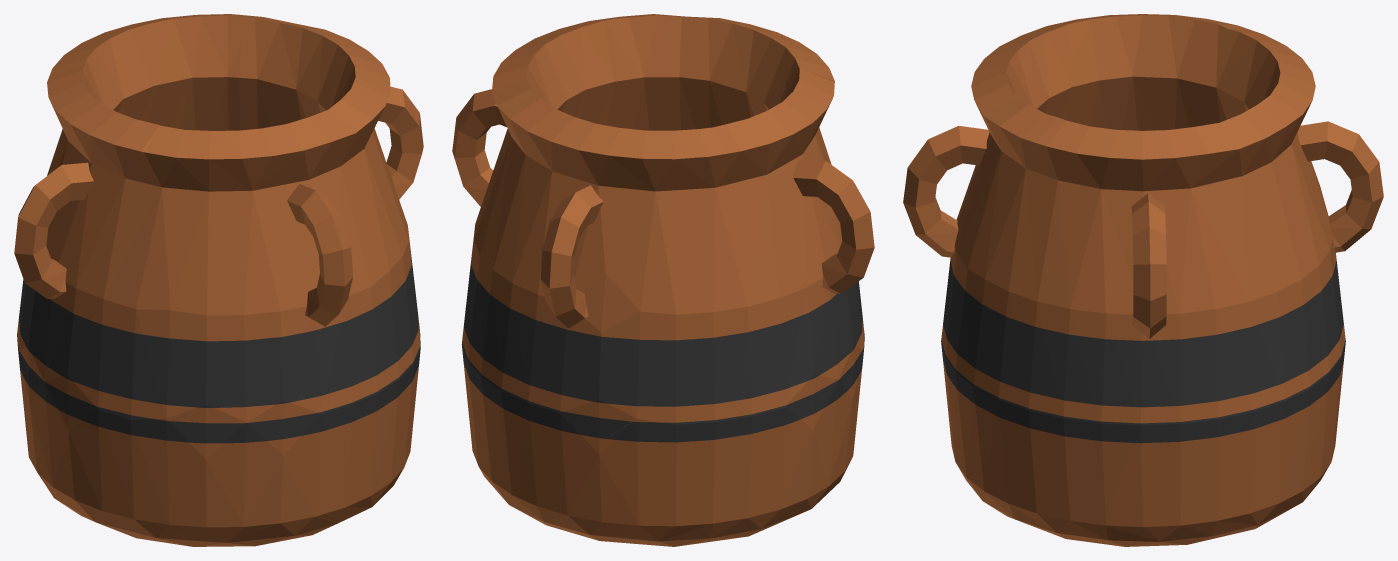
The model's file is Pottery 12_2b.fbx.
3 renders of one model, left to right at view 1: azimuth 30°, elevation 25°; view 2: azimuth 150°, elevation 25°; view 3: azimuth 270°, elevation 25°, orthographic.
Visible parts, largest first — view 1: Pottery 12_2b.001, Pottery 12_2b.005, Pottery 12_2b, Pottery 12_2b.006, Pottery 12_2b.004; view 2: Pottery 12_2b.006, Pottery 12_2b, Pottery 12_2b.005, Pottery 12_2b.001, Pottery 12_2b.002, Pottery 12_2b.004, Pottery 12_2b.003; view 3: Pottery 12_2b.004, Pottery 12_2b, Pottery 12_2b.001, Pottery 12_2b.006, Pottery 12_2b.003, Pottery 12_2b.005, Pottery 12_2b.002.
Part boxes in pixels (left/top/right/bottom): Pottery 12_2b.001: left=142, top=81, right=415, bottom=463; Pottery 12_2b.005: left=14, top=65, right=191, bottom=430; Pottery 12_2b: left=17, top=296, right=420, bottom=546; Pottery 12_2b.006: left=49, top=14, right=248, bottom=130; Pottery 12_2b.004: left=239, top=15, right=423, bottom=330; Pottery 12_2b.006: left=481, top=92, right=736, bottom=464; Pottery 12_2b: left=464, top=325, right=861, bottom=546; Pottery 12_2b.005: left=712, top=68, right=874, bottom=418; Pottery 12_2b.001: left=603, top=14, right=834, bottom=144; Pottery 12_2b.002: left=473, top=290, right=738, bottom=438; Pottery 12_2b.004: left=452, top=19, right=616, bottom=369; Pottery 12_2b.003: left=461, top=254, right=485, bottom=369; Pottery 12_2b.004: left=1021, top=111, right=1294, bottom=475; Pottery 12_2b: left=946, top=345, right=1340, bottom=546; Pottery 12_2b.001: left=903, top=24, right=1079, bottom=391; Pottery 12_2b.006: left=1216, top=29, right=1383, bottom=399; Pottery 12_2b.003: left=1019, top=309, right=1295, bottom=443; Pottery 12_2b.005: left=1049, top=14, right=1250, bottom=130; Pottery 12_2b.002: left=1285, top=260, right=1345, bottom=388.
Bounding box in the file's own units: 62.86 × 59.48 × 62.86.
